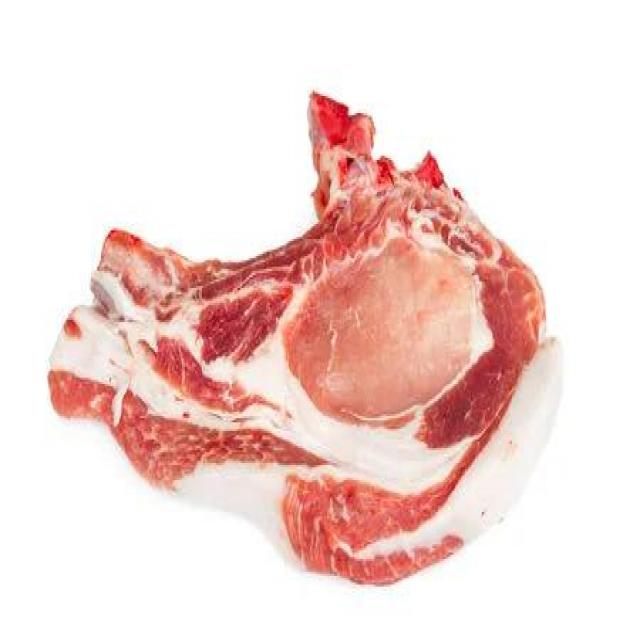pork belly: (62, 90, 562, 548)
